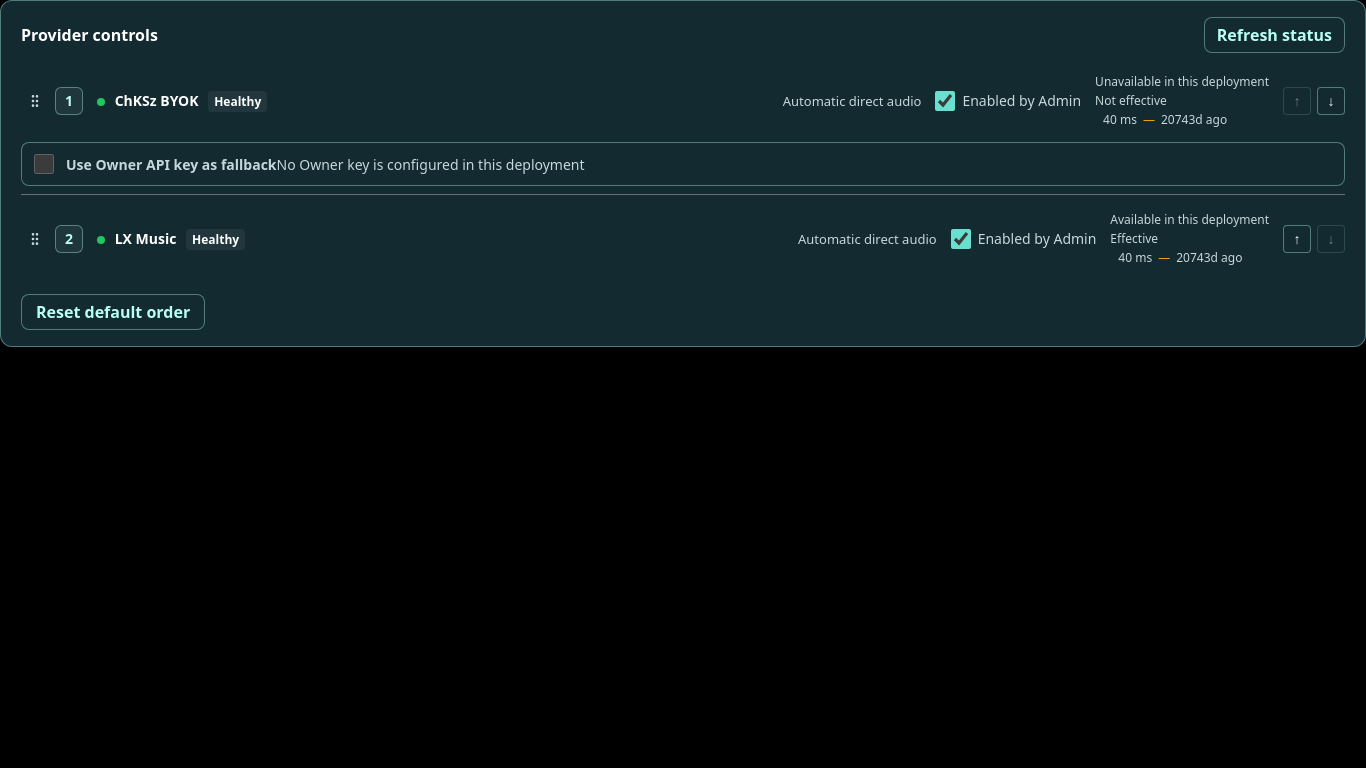
Test: ProviderControls › does not count an unavailable Admin-enabled provider as effective shutdown protection
Click the checkbox labelled "Enabled by Admin" in the row of "LX Music" at coordinates (961, 238), box left=951, top=228, right=971, bottom=248
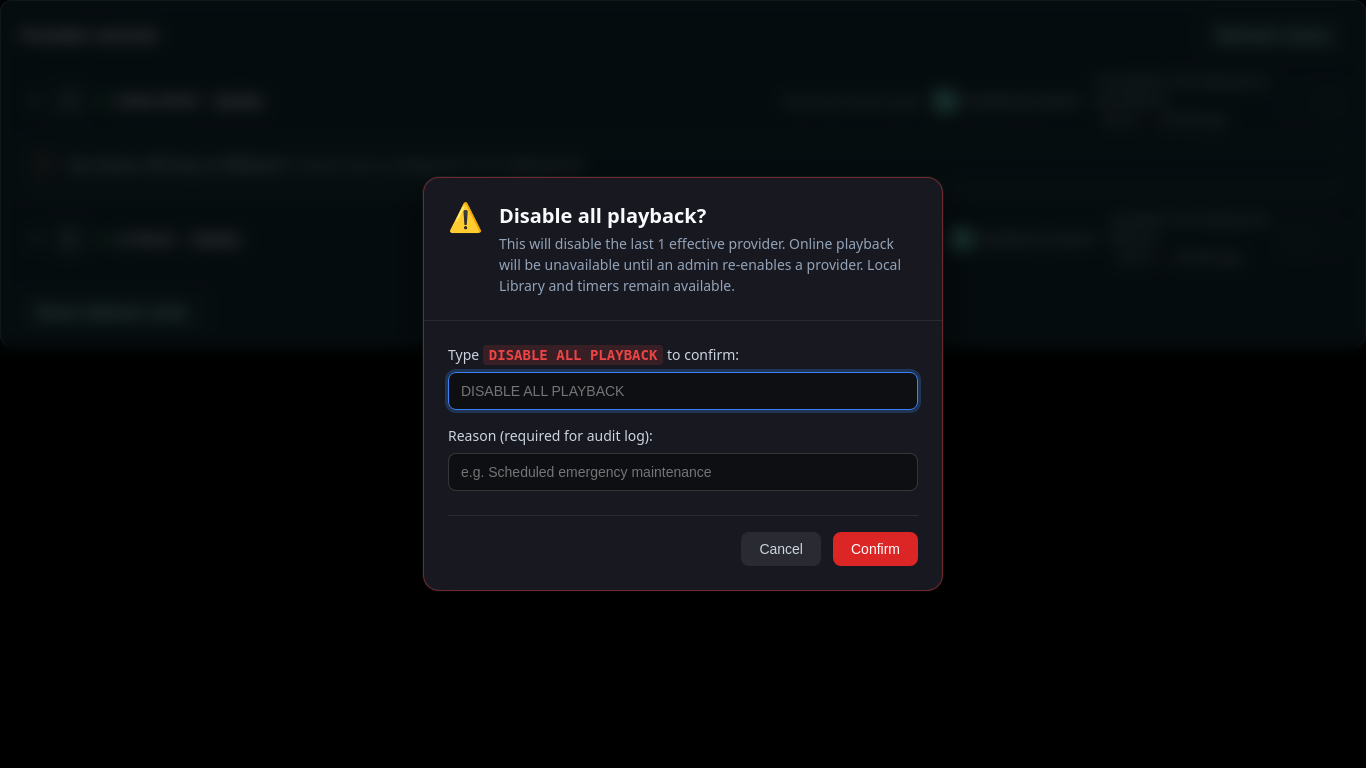
Now the dialog is shown, box left=423, top=177, right=943, bottom=591
